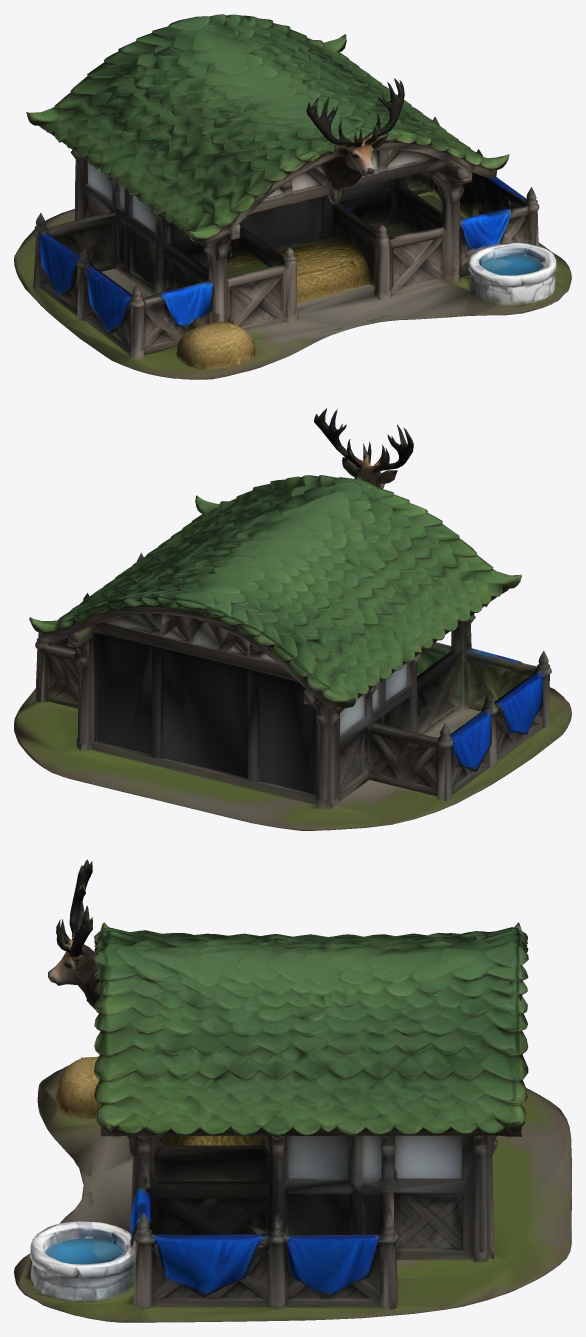
File: elf_stable.glb
3 views of the same model, one above another, from view 1: azimuth 30°, elevation 25°; view 2: azimuth 150°, elevation 25°; view 3: azimuth 270°, elevation 25° (orthographic). The views are drawn at different scales.
Parts seen in each view (by area): view 1: node_0; view 2: node_0; view 3: node_0.
Boxes of the visible parts, <box> form: node_0: <box>14,14,571,379</box>; node_0: <box>14,408,571,830</box>; node_0: <box>14,859,571,1322</box>.
Bounding box in the file's own units: 0.9459 × 0.4879 × 0.8122.
1 material, 1 textured.
